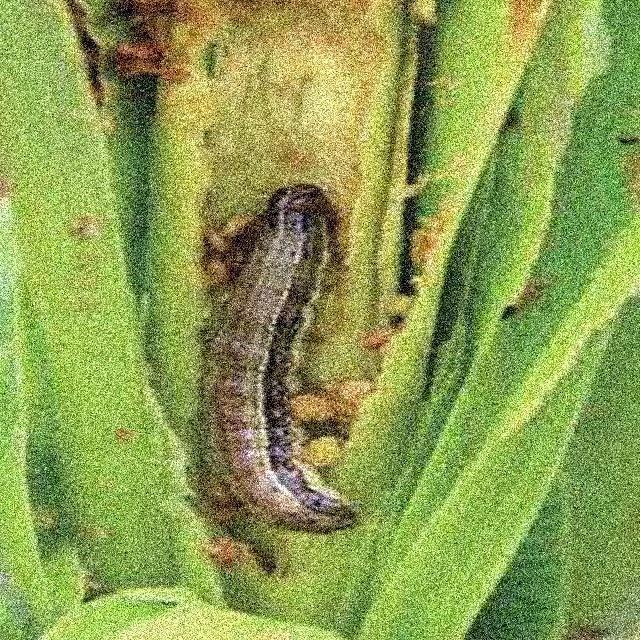gusano_cogollero: (205, 179, 364, 536)
